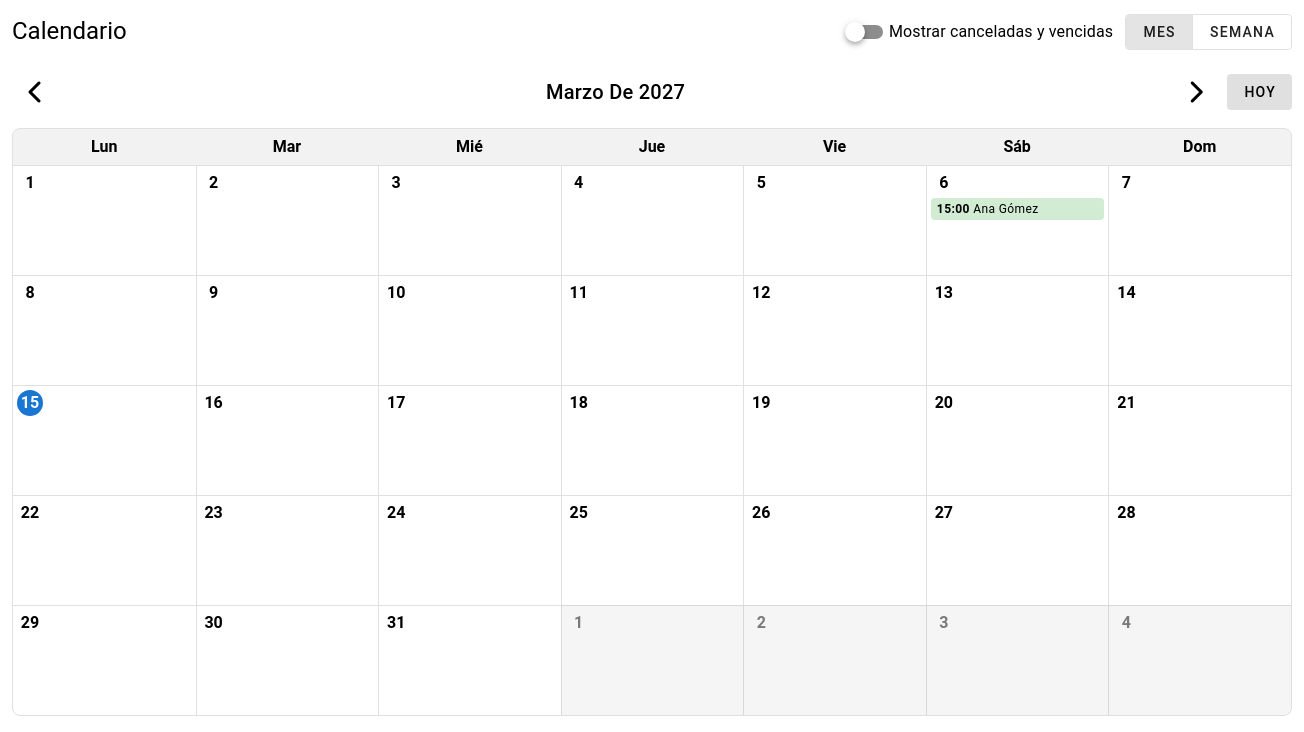
Scenario: CalendarioView › las canceladas y vencidas se ocultan salvo que se pida verlas
Check: the number of links with test id "reserva" is 1, box top-left (931, 198), bottom-right (1104, 220)
Click the checkbox labelled "Mostrar canceladas y vencidas". click: click(1001, 32)
box: top-left (889, 22), bottom-right (1113, 41)
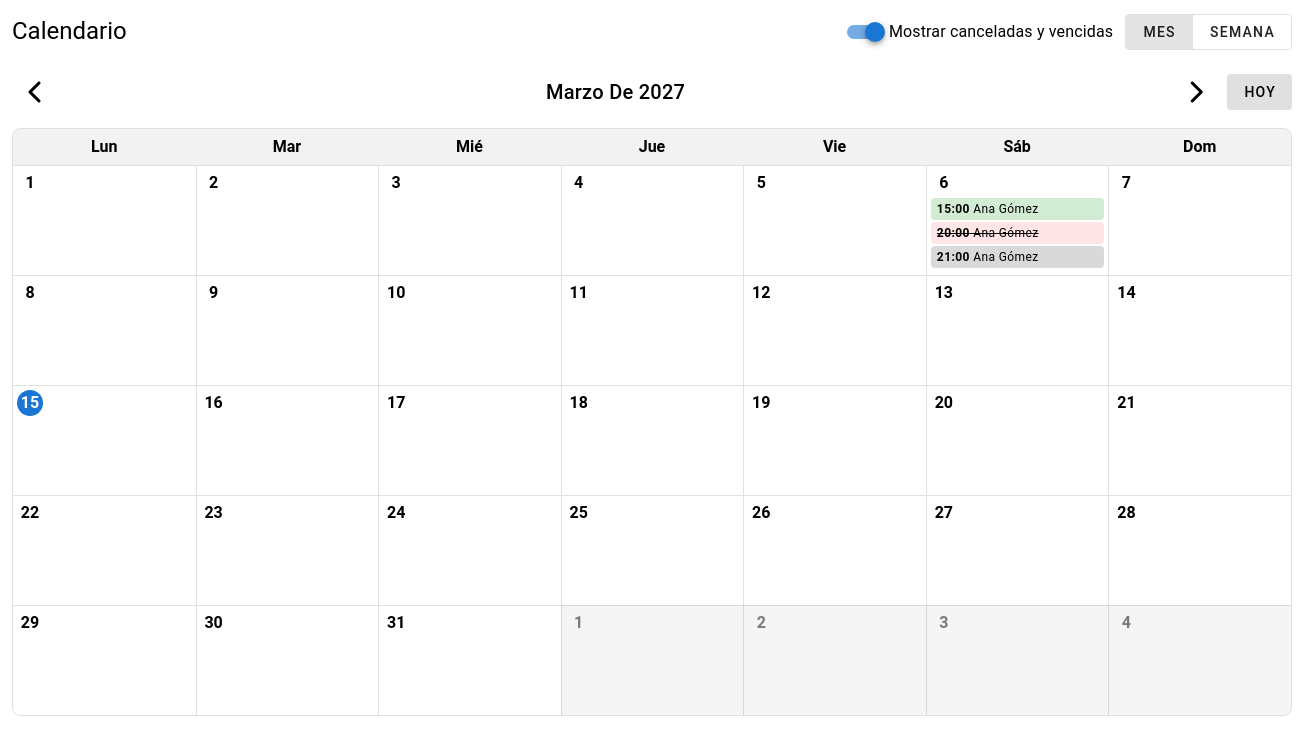
Check: the number of links with test id "reserva" is 3, box top-left (931, 198), bottom-right (1104, 220); top-left (931, 222), bottom-right (1104, 244); top-left (931, 246), bottom-right (1104, 268)
